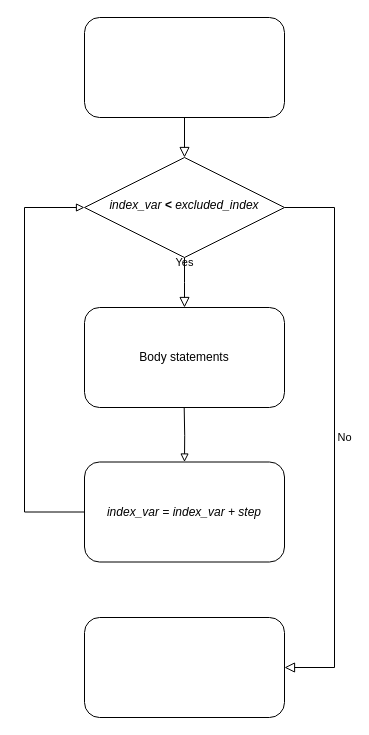
The diagram is 369 pixels wide and 735 high, and some of its shapes have lost their labels. The centre of each missing label's shape, as x and y in pixels:
Initialize index_var: point 184,67
Statements after for construct: point 184,667
